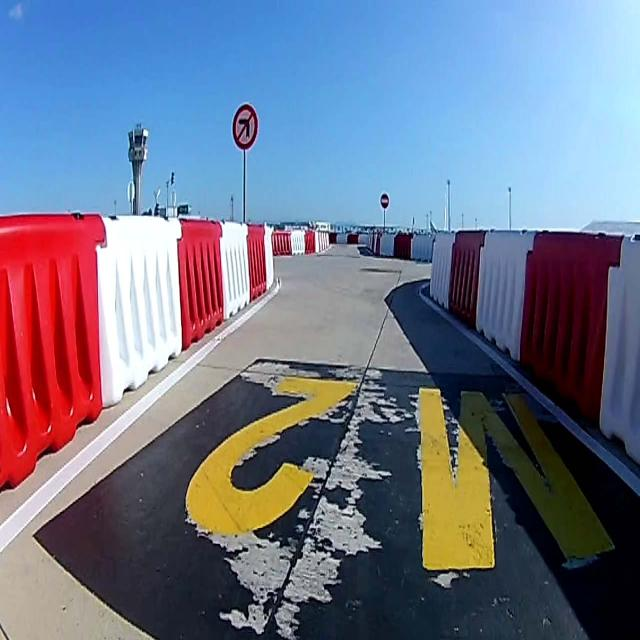soladonulmez: (232, 104, 258, 149)
